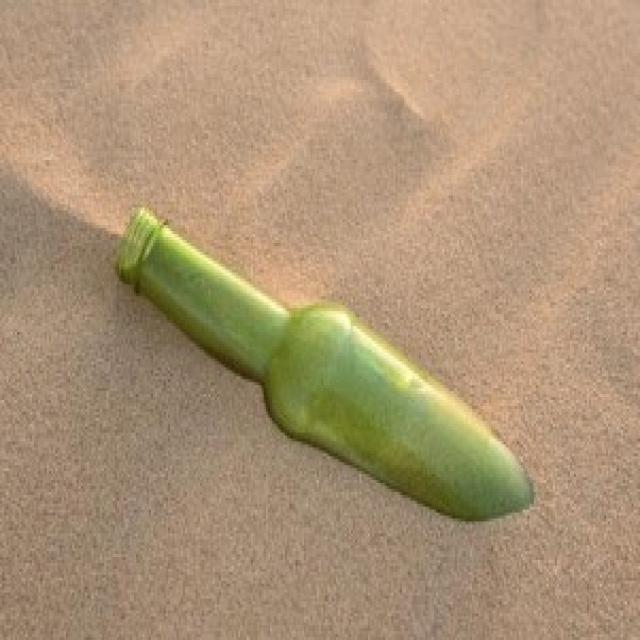electronic: (114, 208, 539, 536)
